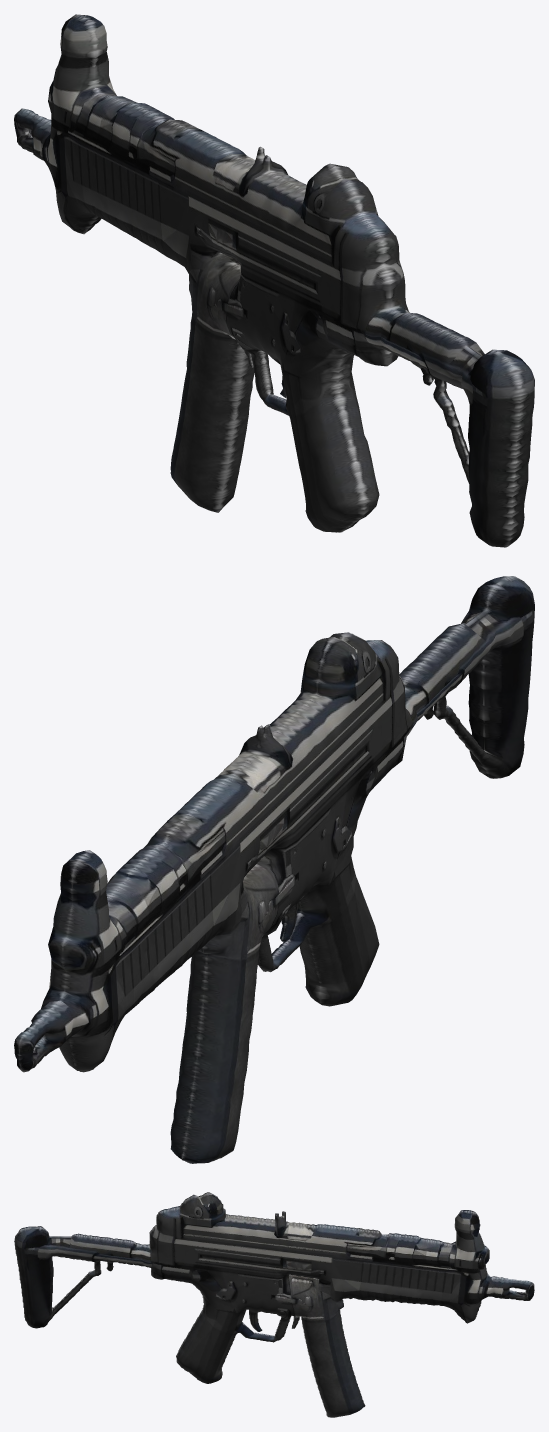
Rendered from mitraillette-arme.glb.
3 renders of one model, top to bottom at view 1: azimuth 30°, elevation 25°; view 2: azimuth 150°, elevation 25°; view 3: azimuth 270°, elevation 25°, orthographic. The views are drawn at different scales.
Parts seen in each view (by area): view 1: mitraillette-arme; view 2: mitraillette-arme; view 3: mitraillette-arme.
Part boxes in pixels (left/top/right/bottom): mitraillette-arme: left=14, top=14, right=534, bottom=547; mitraillette-arme: left=14, top=576, right=534, bottom=1163; mitraillette-arme: left=14, top=1192, right=534, bottom=1417.
Size of the model in its own units: 0.04 by 0.3204 by 0.6755.
1 material, 1 textured.
